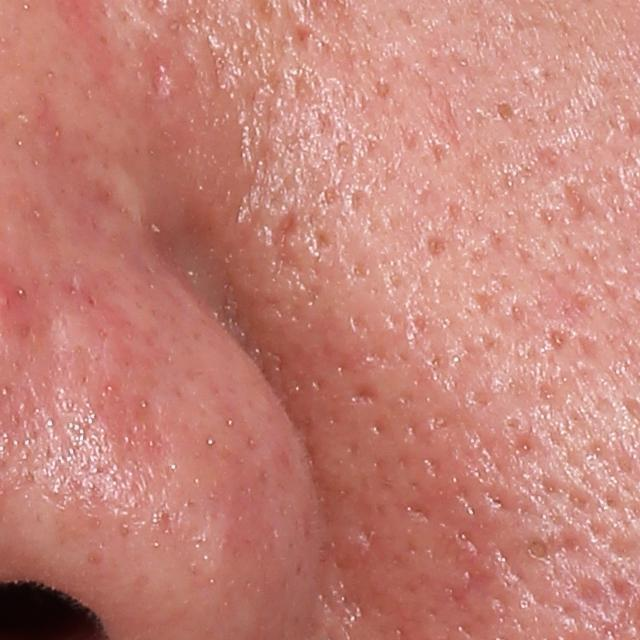atrophic_scar: (137, 37, 181, 105), (557, 175, 608, 228), (268, 207, 303, 278), (346, 382, 380, 403)
comedo: (520, 534, 551, 568), (498, 102, 515, 126)
